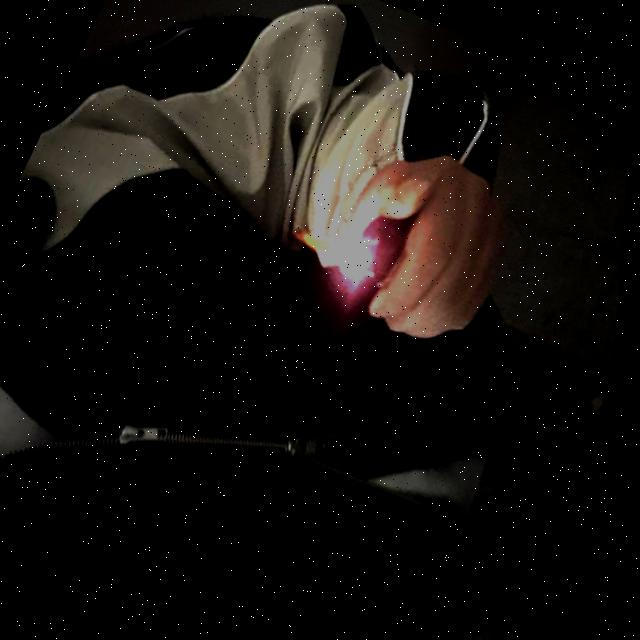Fire: (287, 222, 379, 279)
